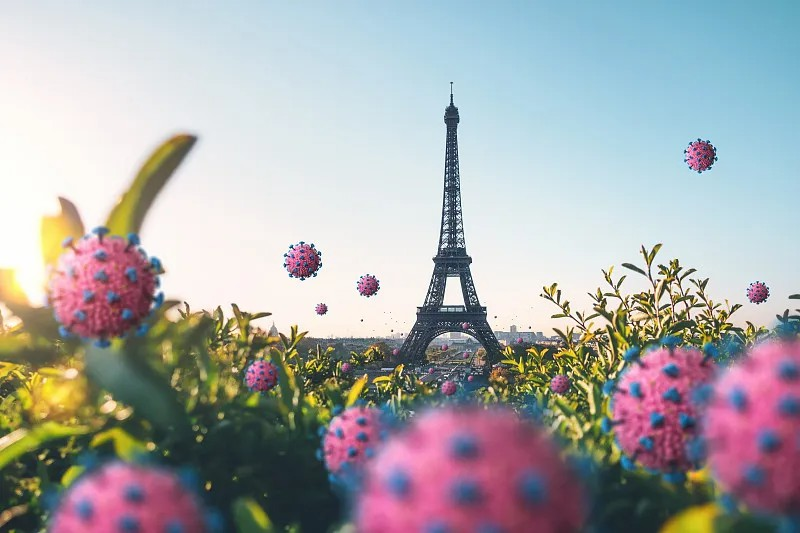Eiffel: (395, 82, 505, 373)
